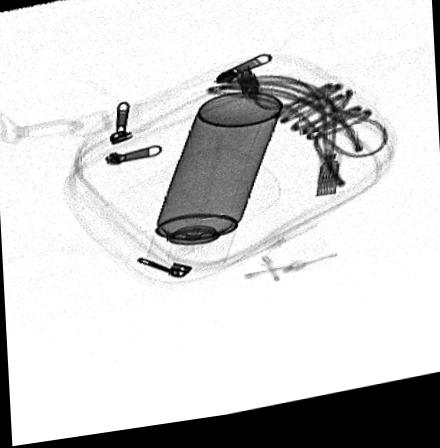Sprayer: (142, 98, 282, 282)
